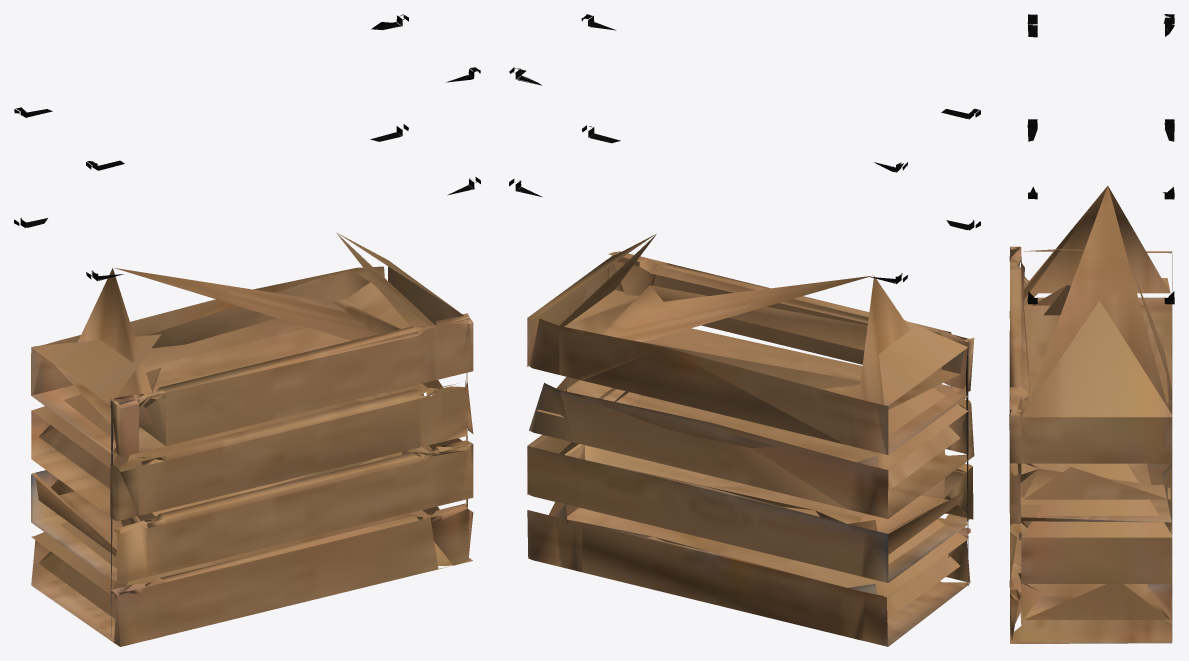
Rendered from dresser-lightweight-fcffc414fa.glb.
The picture shows the model from 3 angles, left to right: view 1: azimuth 30°, elevation 25°; view 2: azimuth 150°, elevation 25°; view 3: azimuth 270°, elevation 25°; orthographic projection. The views are drawn at different scales.
Visible parts, largest first — view 1: drawer_cabinet; view 2: drawer_cabinet; view 3: drawer_cabinet.
Part boxes in pixels (x1,y1,x2,y2): drawer_cabinet: [14, 14, 480, 646]; drawer_cabinet: [509, 14, 980, 646]; drawer_cabinet: [1009, 14, 1174, 643].
Bounding box in the file's own units: 1.13 × 1.34 × 0.4361.
Materials: 1 (1 with a texture image).
